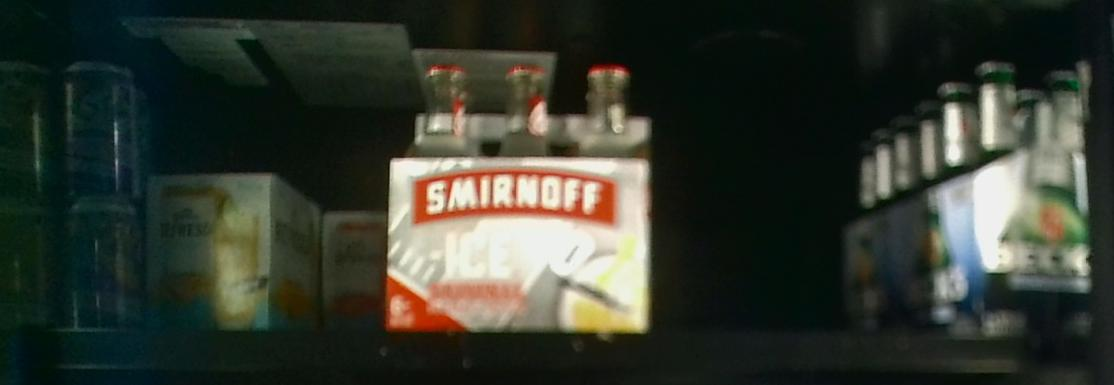bottle: (388, 63, 651, 335), (971, 59, 1090, 335), (150, 172, 318, 333), (319, 209, 382, 333)
